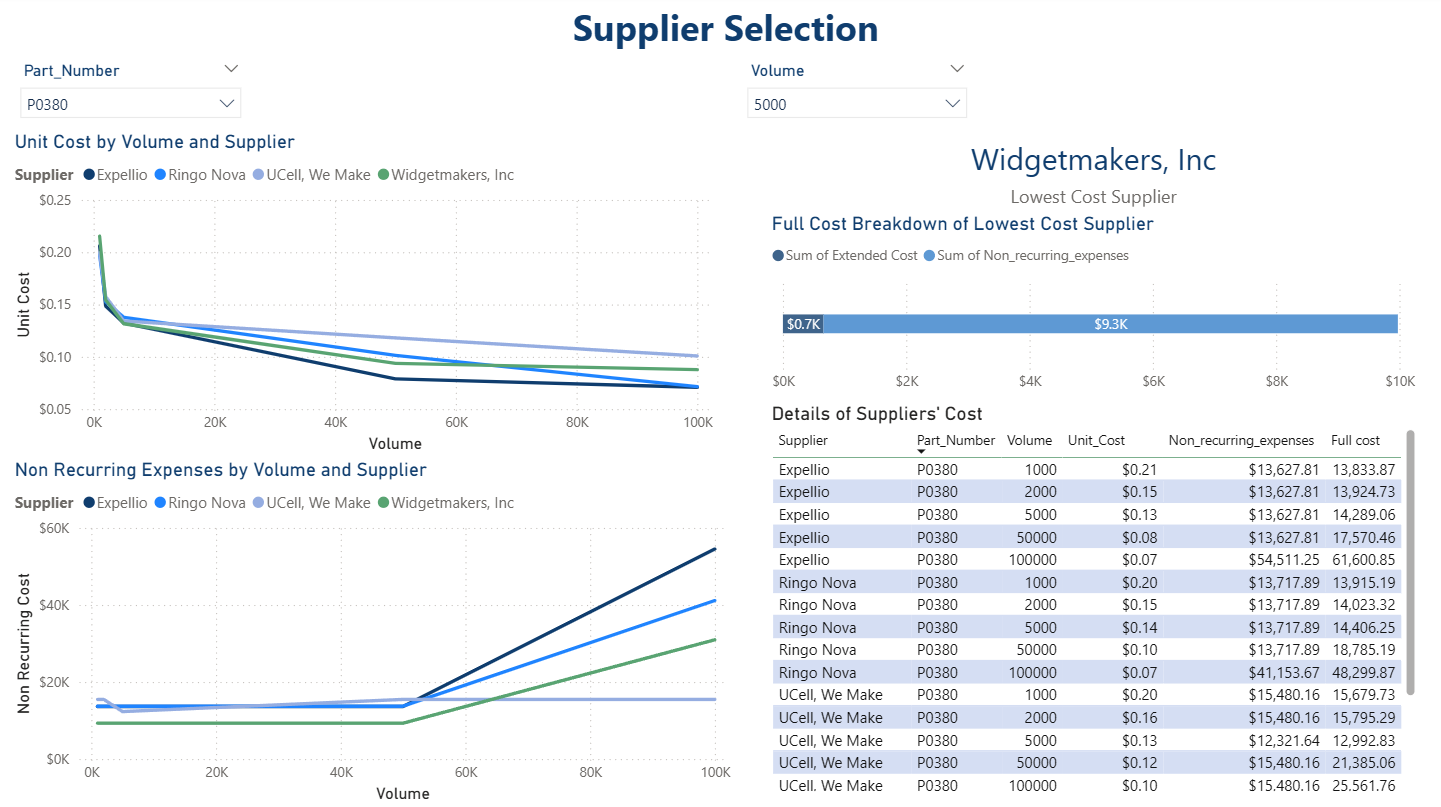

The page's visual inventory and layout, read from the dashboard file:
{"tool":"powerbi","page":{"name":"Supplier Selection","canvas":[1280,720],"ordinal":0},"visuals":[{"type":"textbox","box":[505.8,0,299.6,54.5],"z":0},{"type":"tableEx","title":"Details of Suppliers'' Cost","fields":{"Values":["Supplier (Quotes).Supplier","Supplier (Quotes).Part_Number","Supplier (Quotes).Volume","Quotes.Unit_Cost","Quotes.Non_recurring_expenses","Quotes.Full cost"]},"box":[681.8,359.9,580.7,350.2],"z":1000},{"type":"slicer","fields":{"Values":["Supplier (Quotes).Part_Number"]},"box":[10.7,53.5,215.9,65.2],"z":2000},{"type":"slicer","fields":{"Values":["Supplier (Quotes).Volume"]},"box":[655.6,53.5,215,65.2],"z":3000},{"type":"lineChart","title":"Non Recurring Expenses by Volume and Supplier","fields":{"Y":["Sum(Supplier (Quotes).Non_recurring_expenses)"],"Category":["Supplier (Quotes).Volume"],"Series":["Supplier (Quotes).Supplier"]},"box":[10.7,409.5,644.9,310.3],"z":4000},{"type":"lineChart","title":"Unit Cost by Volume and Supplier","fields":{"Y":["Sum(Supplier (Quotes).Unit_Cost)"],"Category":["Supplier (Quotes).Volume"],"Series":["Supplier (Quotes).Supplier"]},"box":[10.7,118.7,629.3,290.8],"z":5000},{"type":"card","fields":{"Values":["Min(Quotes.Supplier)"]},"box":[780.1,118.7,384.2,72.9],"z":6000},{"type":"barChart","title":"Full Cost Breakdown of Lowest Cost Supplier","fields":{"Y":["Sum(Quotes.Extended Cost)","Sum(Quotes.Non_recurring_expenses)"]},"box":[681.8,191.6,580.7,168.3],"z":7000}]}

Visuals, with their boxes in screenshot pixels (x1, y1, x2, y2), scaled from the page's 1280x720 canvas onto the 1441x807 screenshot:
textbox: (569,0,907,61)
"Details of Suppliers'' Cost" tableEx: (768,403,1421,796)
slicer - Supplier (Quotes).Part_Number: (12,60,255,133)
slicer - Supplier (Quotes).Volume: (738,60,980,133)
"Non Recurring Expenses by Volume and Supplier" lineChart: (12,459,738,806)
"Unit Cost by Volume and Supplier" lineChart: (12,133,720,459)
card - Min(Quotes.Supplier): (878,133,1311,215)
"Full Cost Breakdown of Lowest Cost Supplier" barChart: (768,215,1421,403)
